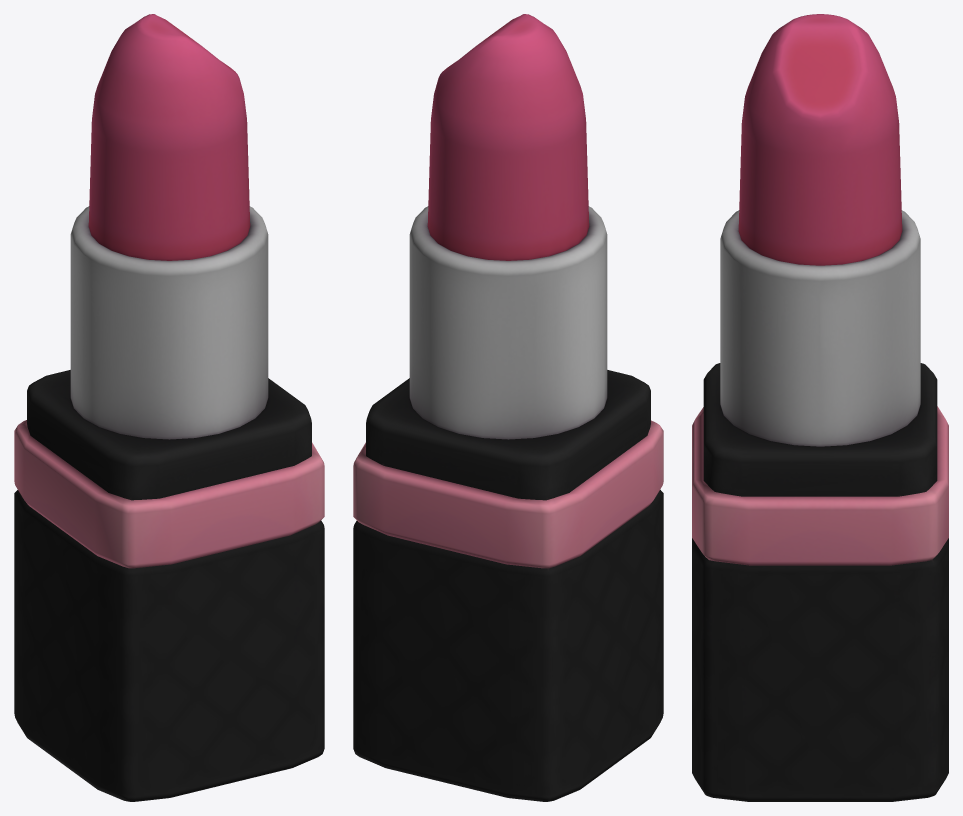
File: StackUp_Lipstick.fbx
3 views of the same model, side by side, from view 1: azimuth 30°, elevation 25°; view 2: azimuth 150°, elevation 25°; view 3: azimuth 270°, elevation 25° (orthographic).
Parts seen in each view (by area): view 1: StackUp_Lipstick; view 2: StackUp_Lipstick; view 3: StackUp_Lipstick.
Part boxes in pixels (left/top/right/bottom): StackUp_Lipstick: left=14, top=14, right=324, bottom=801; StackUp_Lipstick: left=353, top=14, right=663, bottom=801; StackUp_Lipstick: left=692, top=14, right=948, bottom=801.
Size of the model in its own units: 6.28 by 19.57 by 6.28.
